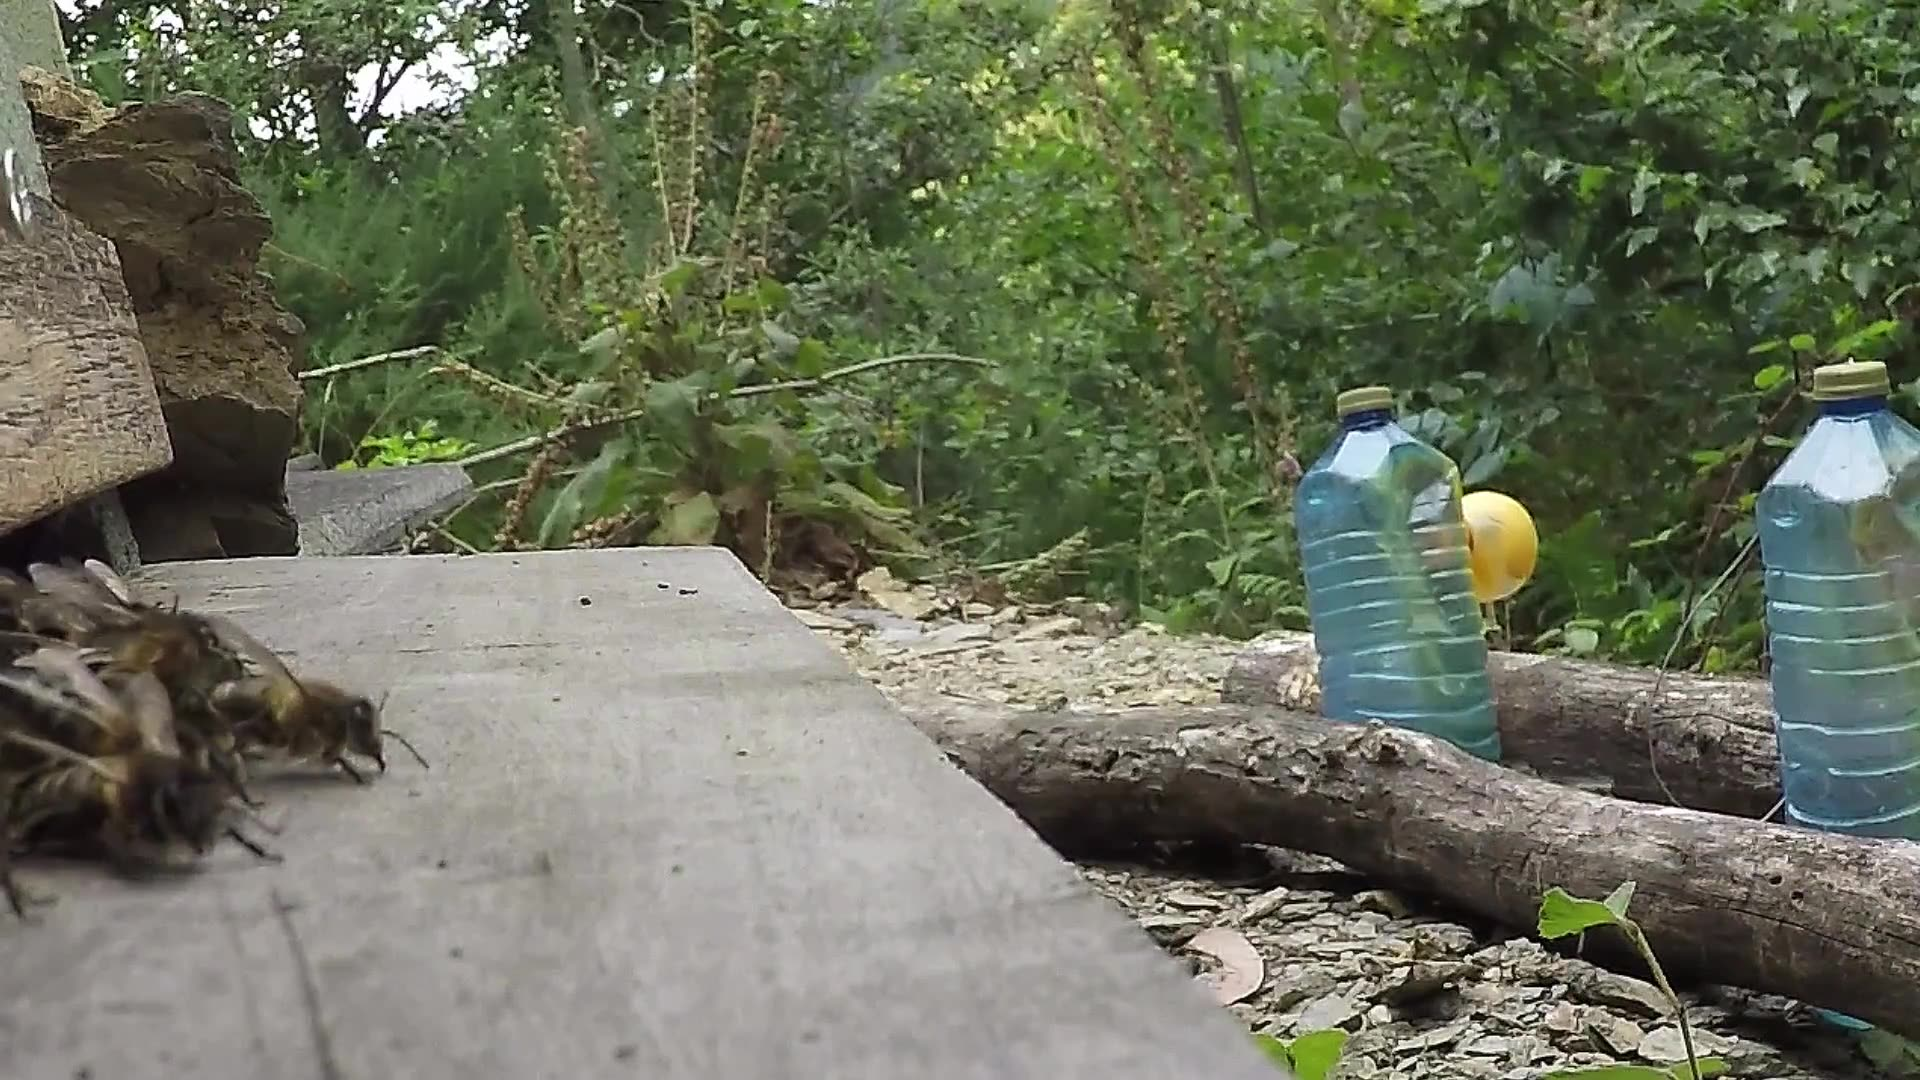bee: (1, 555, 276, 877), (186, 647, 407, 803)
